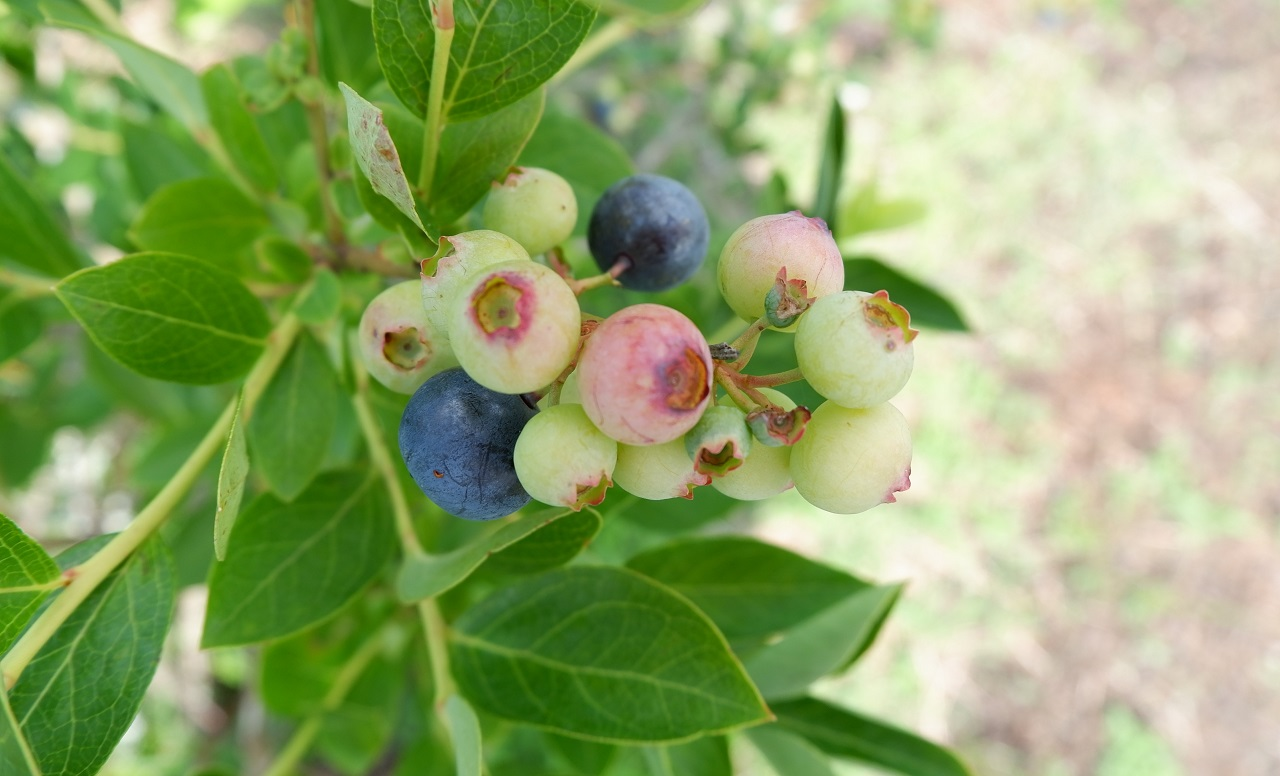Immature: (577, 304, 716, 444), (447, 261, 583, 396), (716, 210, 844, 332), (793, 289, 919, 409), (421, 229, 533, 359), (790, 398, 913, 513), (359, 277, 462, 395), (512, 403, 620, 511), (710, 387, 812, 500), (482, 165, 579, 257), (613, 435, 713, 500), (683, 406, 751, 478), (535, 366, 582, 413)
Mature: (397, 365, 541, 521), (587, 173, 710, 292)
